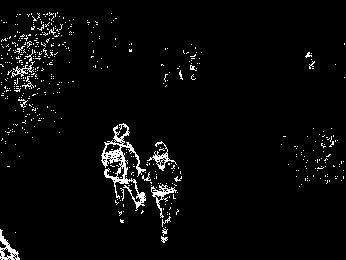person: (102, 122, 144, 224), (142, 140, 183, 244)
